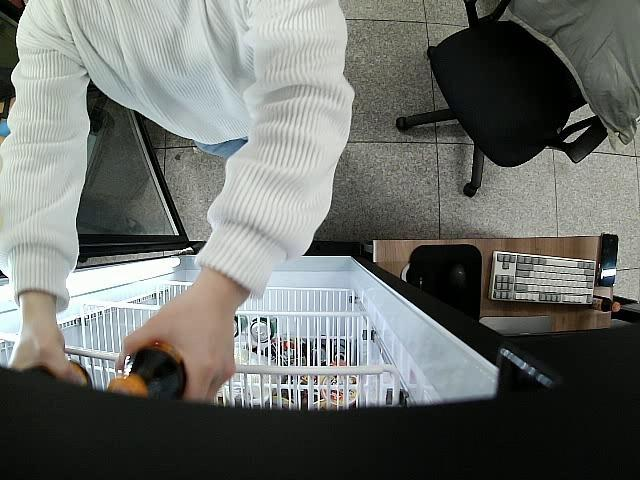17_vita500: (104, 342, 188, 402), (28, 360, 94, 391)
